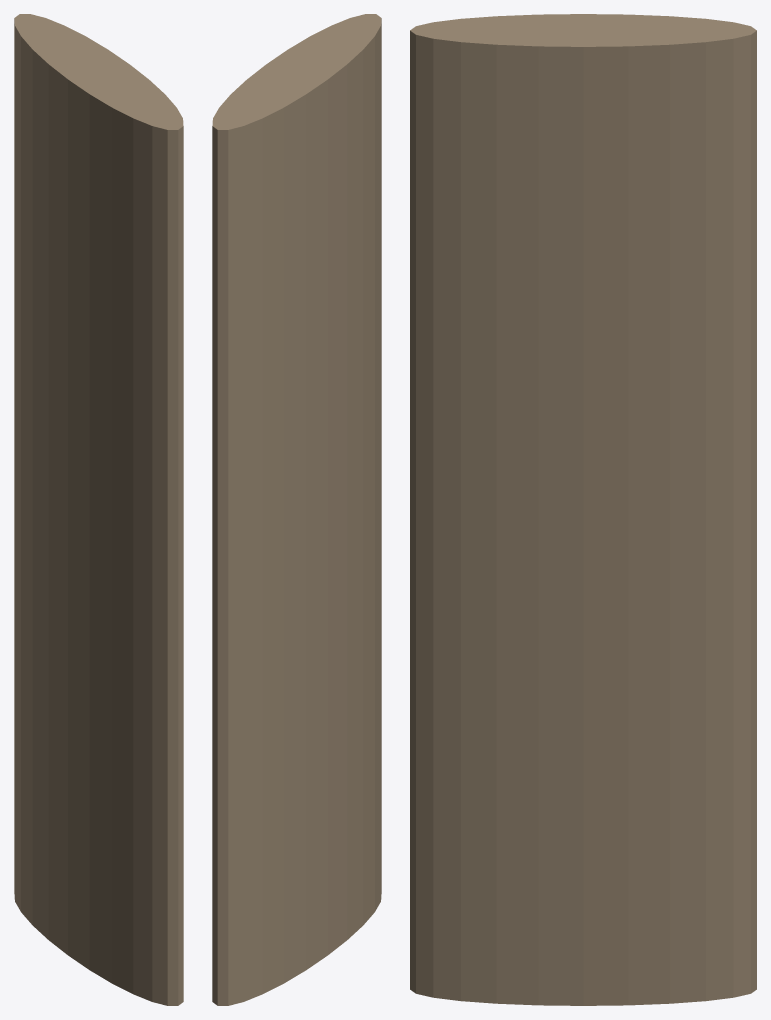
Rendered from own_cyl_72x976x320_5a4630.glb.
3 renders of one model, left to right at view 1: azimuth 30°, elevation 25°; view 2: azimuth 150°, elevation 25°; view 3: azimuth 270°, elevation 25°, orthographic. The views are drawn at different scales.
Visible parts, largest first — view 1: geometry_0; view 2: geometry_0; view 3: geometry_0.
Boxes of the visible parts, x1=… form: geometry_0: x1=14, y1=14, x2=183, y2=1005; geometry_0: x1=212, y1=14, x2=381, y2=1005; geometry_0: x1=410, y1=14, x2=756, y2=1005.
Size of the model in its own units: 0.72 by 9.76 by 3.2.
